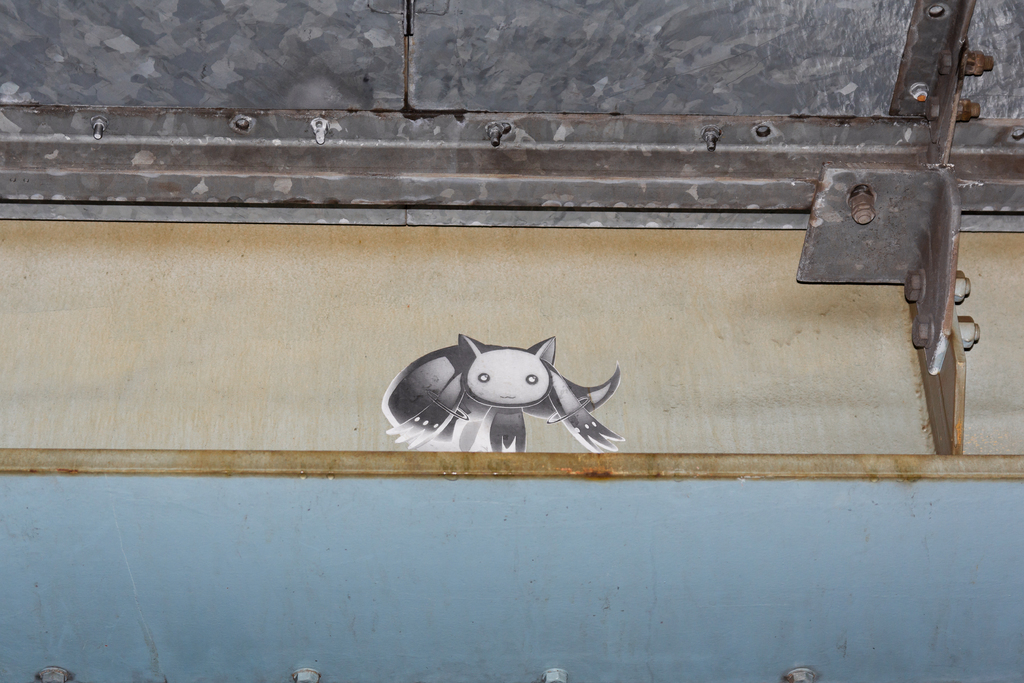Animal: (381, 339, 626, 452)
